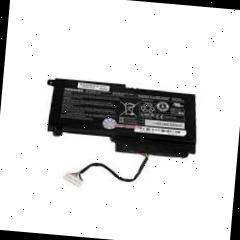electronic: (14, 50, 240, 240)
